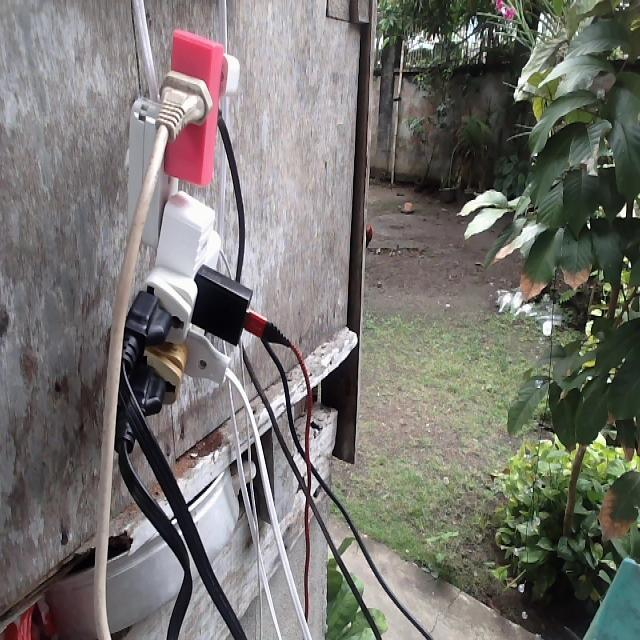-: (115, 19, 260, 429)
